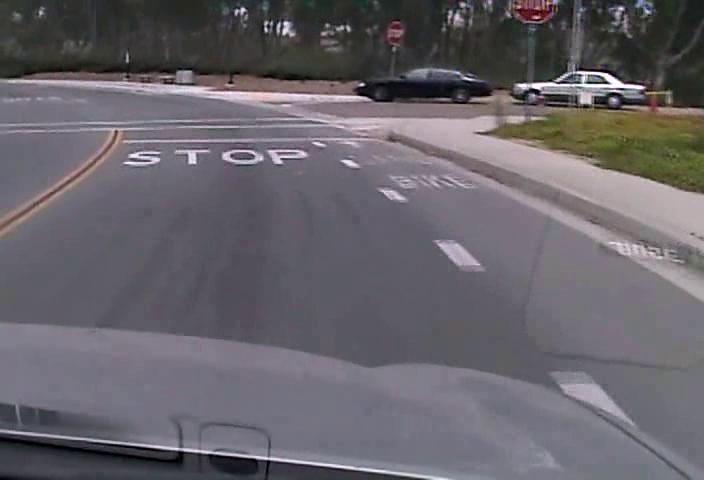stop: (385, 22, 405, 46)
